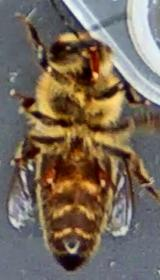varroa_mite: (26, 158, 67, 194), (92, 165, 115, 193)
